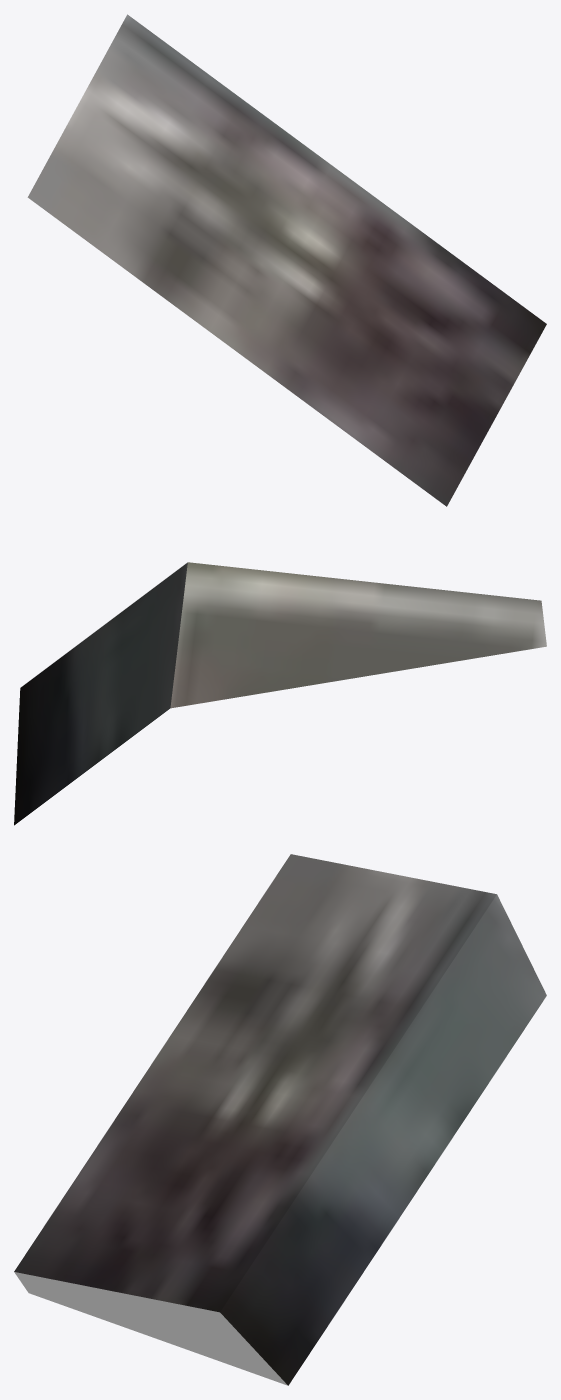
File: 39528_bldg_Building.glb
3 views of the same model, one above another, from view 1: azimuth 30°, elevation 25°; view 2: azimuth 150°, elevation 25°; view 3: azimuth 270°, elevation 25° (orthographic). The views are drawn at different scales.
Size of the model in its own units: 9.18 by 6.49 by 8.54.
2 materials, 1 textured.
